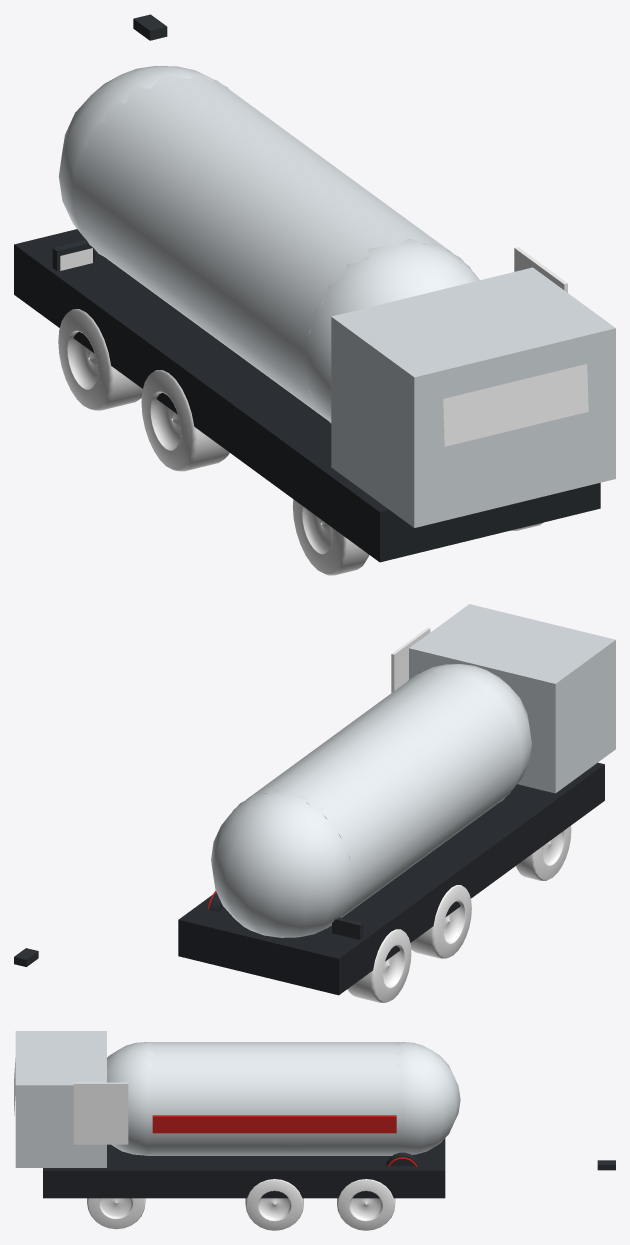
Rendered from equipment--fuelTruck.glb.
3 views of the same model, one above another, from view 1: azimuth 30°, elevation 25°; view 2: azimuth 150°, elevation 25°; view 3: azimuth 270°, elevation 25° (orthographic). The views are drawn at different scales.
Visible parts, largest first — view 1: fuelTruck:shell, wheelsM, wheelsR, wheelsF, dispensePanel; view 2: fuelTruck:shell, wheelsR, wheelsM, wheelsF, cabDoor, dispensePanel; view 3: fuelTruck:shell, cabDoor, wheelsR, wheelsM, wheelsF, hoseReel.
Part boxes in pixels (left/top/right/bottom): fuelTruck:shell: left=14, top=66, right=615, bottom=562; wheelsM: left=141, top=370, right=229, bottom=471; wheelsR: left=58, top=309, right=142, bottom=410; wheelsF: left=292, top=499, right=543, bottom=575; dispensePanel: left=52, top=240, right=95, bottom=271; fuelTruck:shell: left=178, top=604, right=615, bottom=995; wheelsR: left=347, top=929, right=411, bottom=1002; wheelsM: left=410, top=885, right=471, bottom=958; wheelsF: left=516, top=826, right=571, bottom=880; cabDoor: left=391, top=627, right=430, bottom=692; dispensePanel: left=332, top=917, right=363, bottom=939; fuelTruck:shell: left=14, top=1031, right=460, bottom=1198; cabDoor: left=73, top=1082, right=128, bottom=1144; wheelsR: left=337, top=1179, right=395, bottom=1230; wheelsM: left=245, top=1179, right=303, bottom=1230; wheelsF: left=87, top=1198, right=145, bottom=1229; hoseReel: left=386, top=1152, right=418, bottom=1166.
Size of the model in its own units: 3.08 by 2.8 by 9.88.
